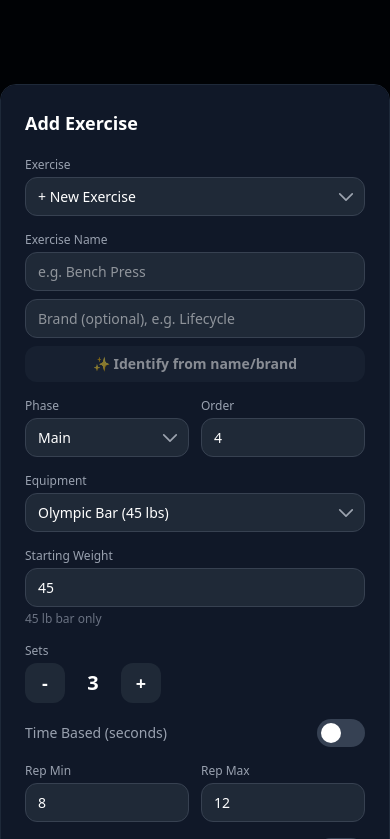
Test case: ExerciseEditor › creating a new exercise › identifies the exercise from name and brand alone, without a photo
This screenshot has width=390, height=839.
Expected: the button "✨ Identify from name/brand" is disabled, [25, 346, 365, 382]
Type "Pulldown" into the field with placeholder "e.g. Bench Press" at (195, 272), box [25, 252, 365, 291]
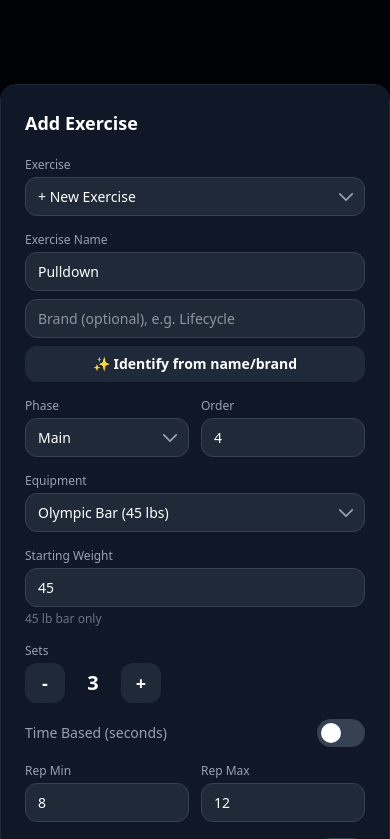
Type "Lifecycle" into the field labelled "Brand (optional)" at (195, 319), box [25, 299, 365, 338]
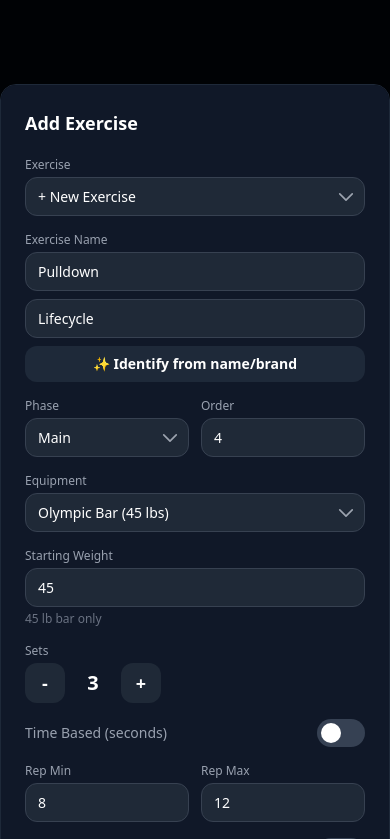
Now the button "✨ Identify from name/brand" is enabled
Click the button "✨ Identify from name/brand" at (195, 364), box [25, 346, 365, 382]
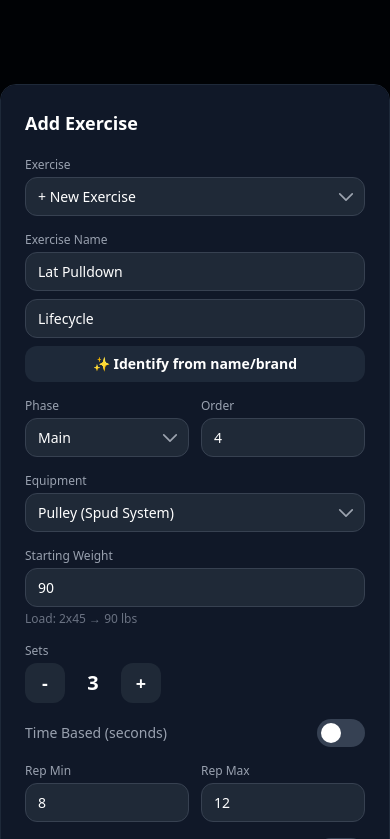
Now the field with placeholder "e.g. Bench Press" holds "Lat Pulldown", box [25, 252, 365, 291]
